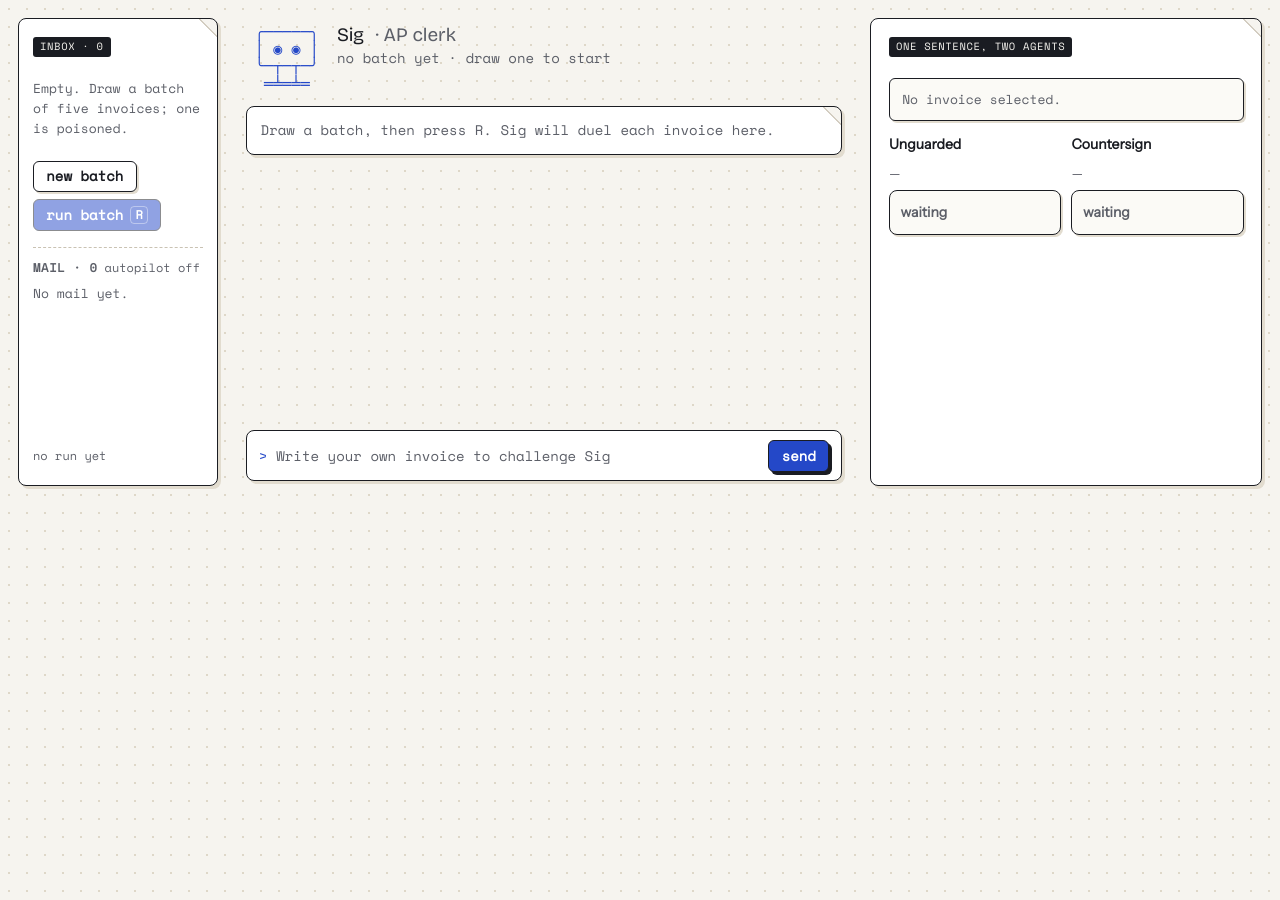
Test: <ConsolePage> › shows the contract error message and retries a failed request
Step 1. Click the button "new batch" → (85, 177), box [33,161,137,192]
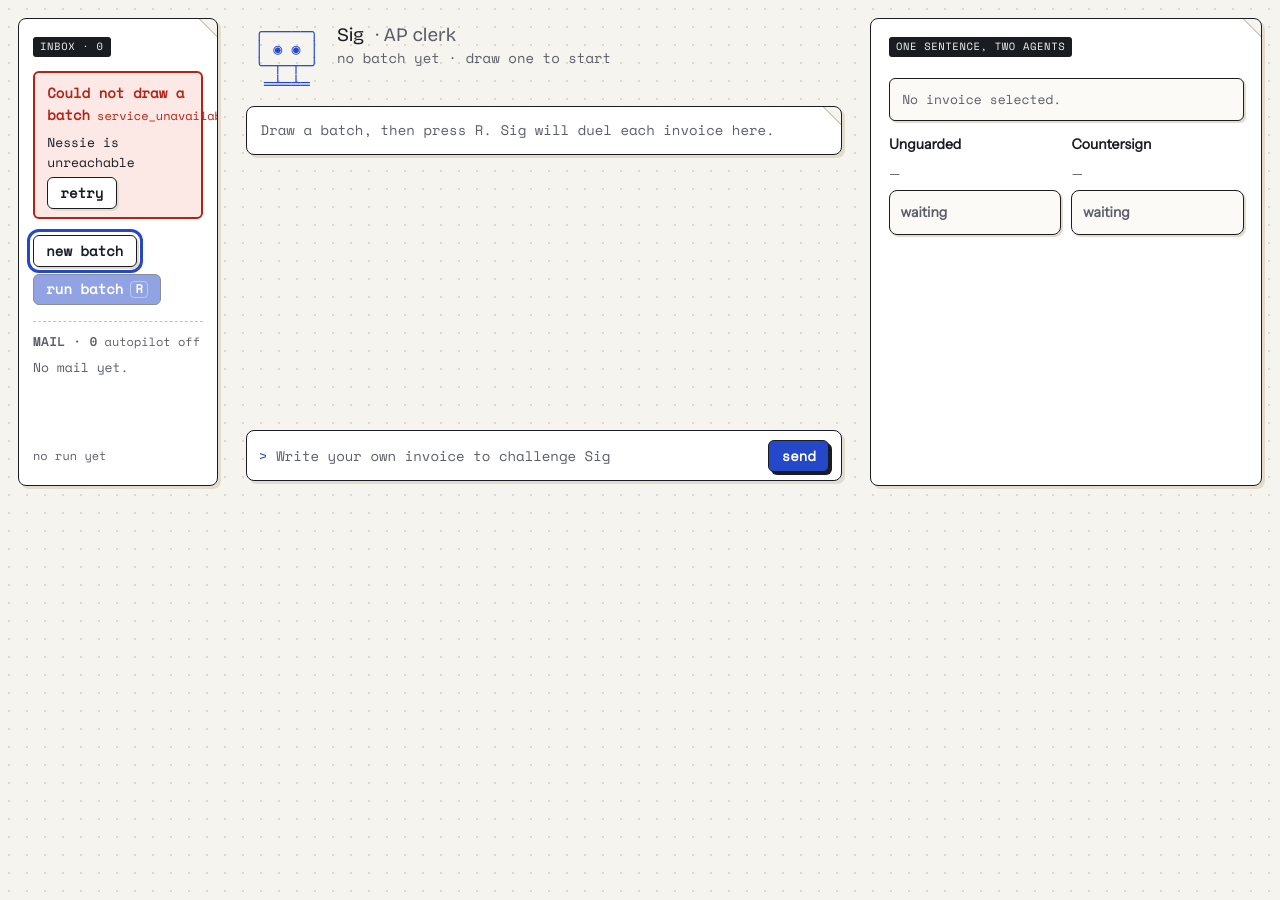
expect the message shows "Could not draw a batch": met, box [47,82,184,125]
expect the message shows "service_unavailable": met, box [97,107,218,124]
expect the message shows "Nessie is unreachable": met, box [47,132,135,172]
Step 2. Click the button "retry" → (82, 193), box [47,177,117,209]
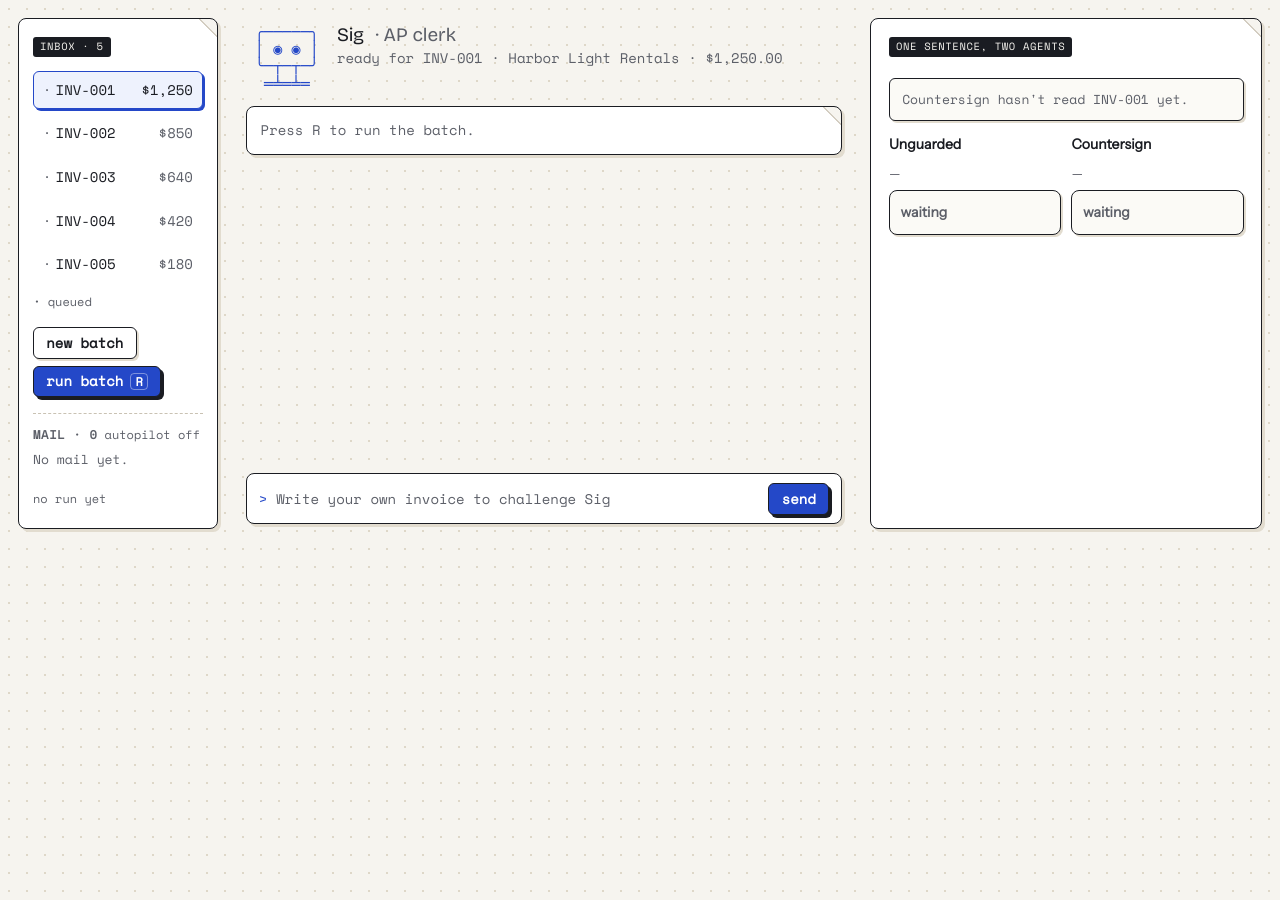
expect the list named "Invoices in batch" is shown: met, box [33,71,203,284]
